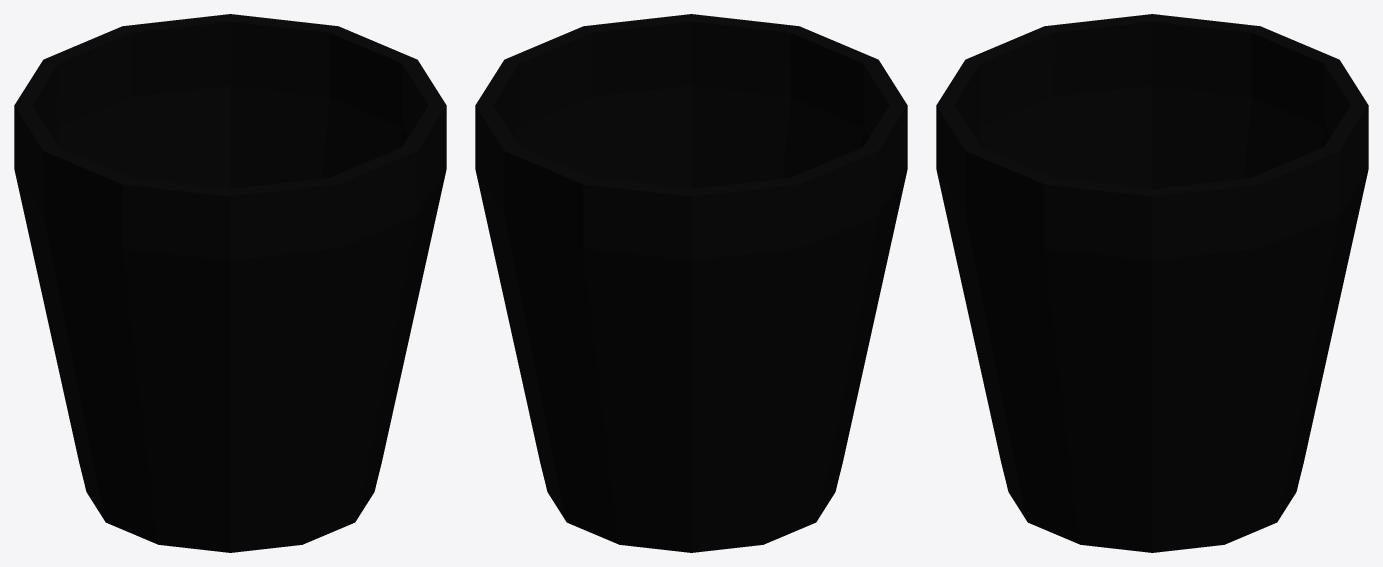
File: GarbageCan_.fbx
3 views of the same model, side by side, from view 1: azimuth 30°, elevation 25°; view 2: azimuth 150°, elevation 25°; view 3: azimuth 270°, elevation 25° (orthographic).
Parts seen in each view (by area): view 1: Cylinder.020; view 2: Cylinder.020; view 3: Cylinder.020.
Boxes of the visible parts, bbox=[...] form: Cylinder.020: bbox=[14, 14, 446, 552]; Cylinder.020: bbox=[475, 14, 907, 552]; Cylinder.020: bbox=[936, 14, 1368, 552].
Size of the model in its own units: 39.02 by 38.53 by 39.02.
